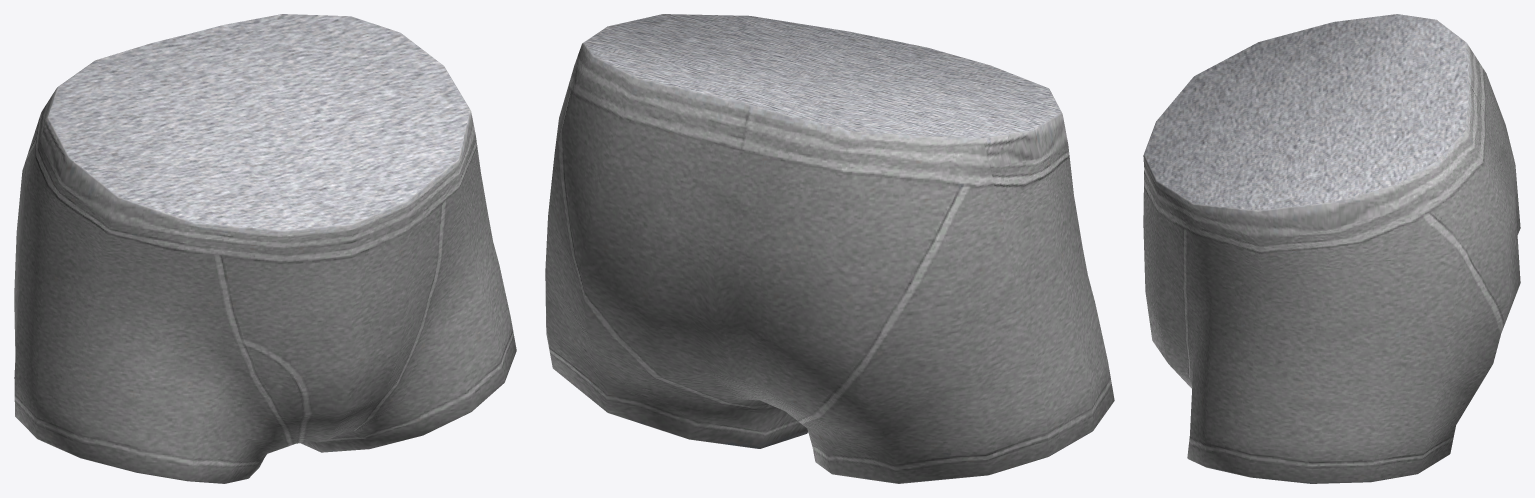
File: SurvivorMale_Legs_Pants_Underwear_LOD0.glb
3 renders of one model, left to right at view 1: azimuth 30°, elevation 25°; view 2: azimuth 150°, elevation 25°; view 3: azimuth 270°, elevation 25°, orthographic. The views are drawn at different scales.
Parts seen in each view (by area): view 1: Hoodie; view 2: Hoodie; view 3: Hoodie.
Boxes of the visible parts, x1=… form: Hoodie: x1=14, y1=14, x2=516, y2=483; Hoodie: x1=545, y1=14, x2=1114, y2=483; Hoodie: x1=1143, y1=14, x2=1520, y2=483.
Size of the model in its own units: 0.3804 by 0.2775 by 0.2721.
1 material, 1 textured.
